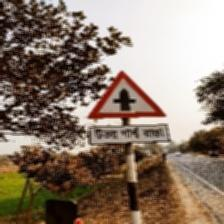Crossroad: (87, 70, 171, 145)
